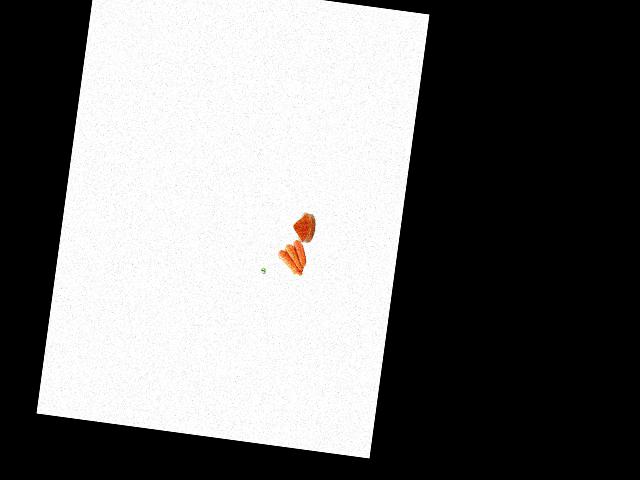carrot: (290, 239, 311, 269)
